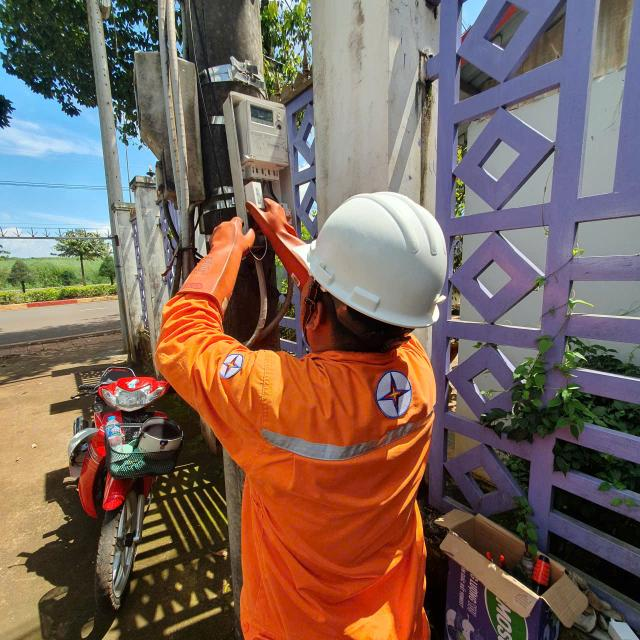gloves: (172, 210, 260, 306), (243, 185, 306, 280)
helmet: (312, 171, 456, 335)
